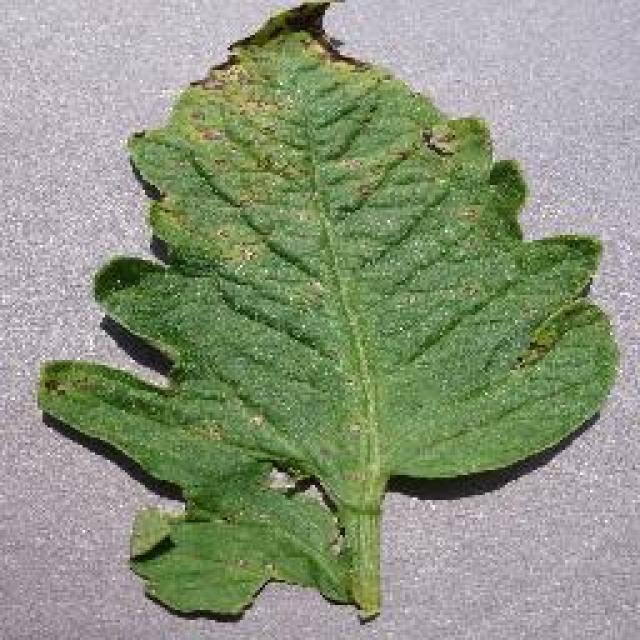Tomato___Septoria_leaf_spot: (40, 2, 615, 618)
